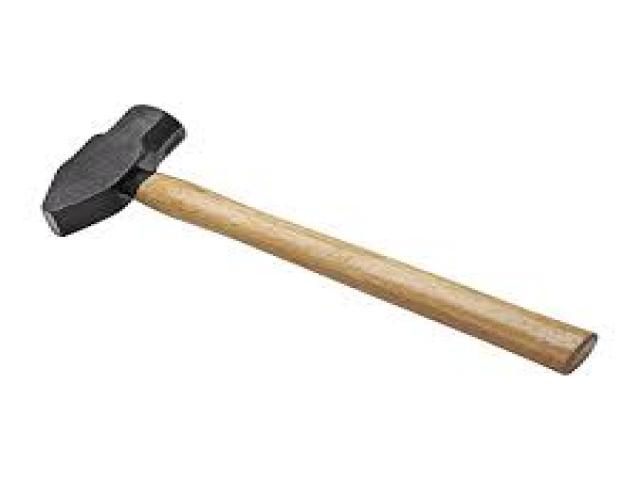Hammer: (42, 106, 594, 374)
